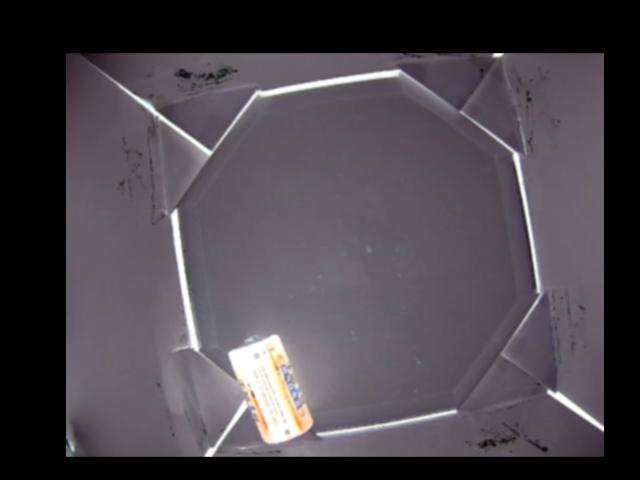Battery: (226, 334, 314, 444)
